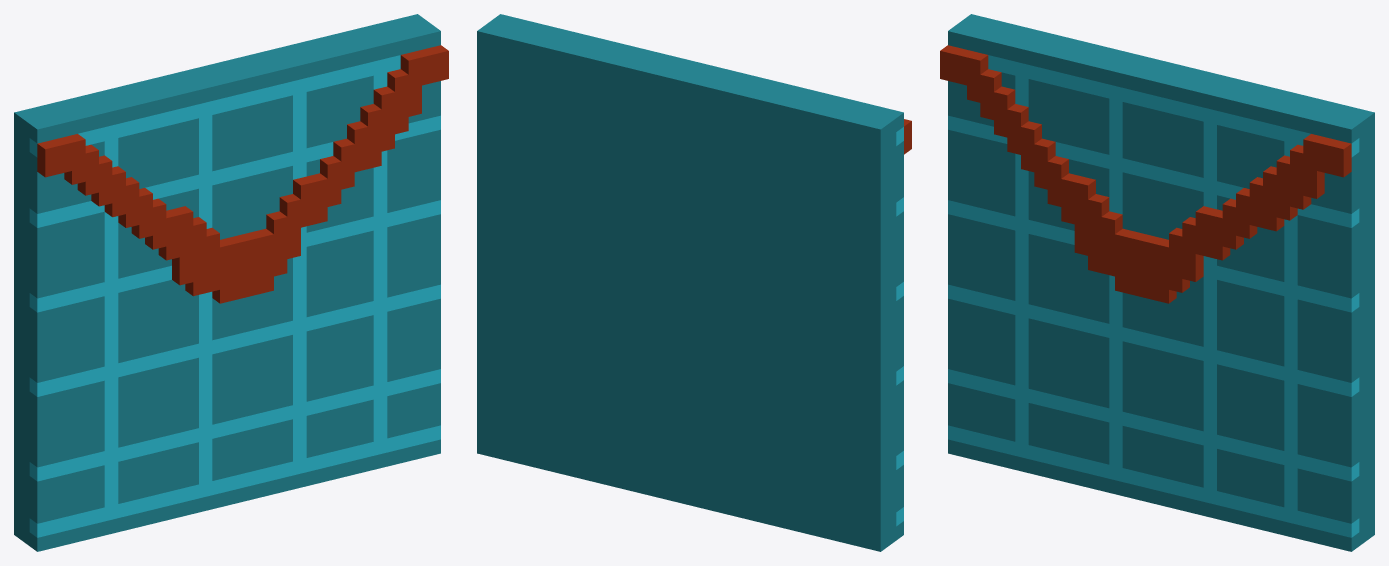
Rendered from ice wall.gltf.
The picture shows the model from 3 angles, left to right: view 1: azimuth 30°, elevation 25°; view 2: azimuth 150°, elevation 25°; view 3: azimuth 330°, elevation 25°; orthographic projection.
Parts seen in each view (by area): view 1: Layer.1, decore; view 2: Layer.1; view 3: Layer.1, decore.
Boxes of the visible parts, x1,y1,x2,y2 form: Layer.1: [14, 14, 440, 551]; decore: [37, 45, 448, 303]; Layer.1: [477, 14, 903, 551]; Layer.1: [948, 14, 1374, 551]; decore: [940, 45, 1351, 303].
Bounding box in the file's own units: 30 × 30 × 4.
1 material, 1 textured.
